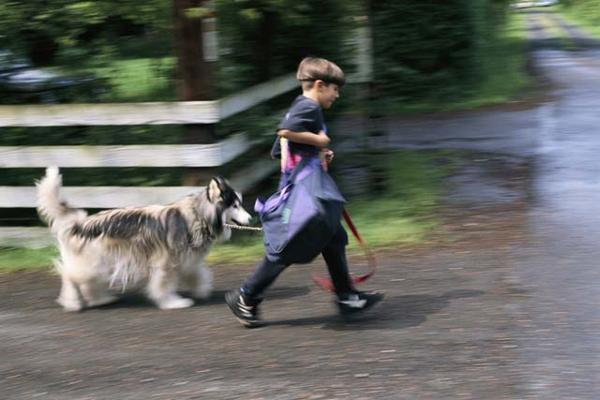person: (225, 53, 387, 320)
